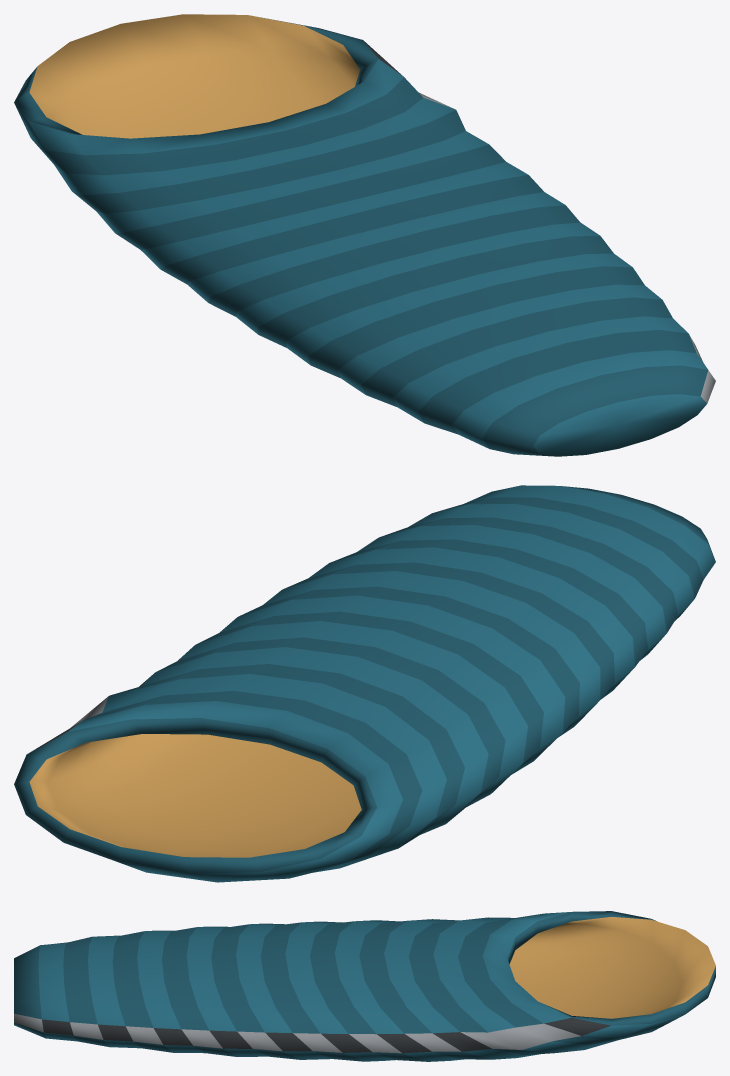
Rendered from NEW_RECOVERY_103_LOD2.fbx.
3 renders of one model, top to bottom at view 1: azimuth 30°, elevation 25°; view 2: azimuth 150°, elevation 25°; view 3: azimuth 270°, elevation 25°, orthographic. The views are drawn at different scales.
Parts seen in each view (by area): view 1: Unrolled mummy sleeping bag; view 2: Unrolled mummy sleeping bag; view 3: Unrolled mummy sleeping bag.
Boxes of the visible parts, x1,y1,x2,y2 form: Unrolled mummy sleeping bag: (14,14,715,456); Unrolled mummy sleeping bag: (14,485,715,882); Unrolled mummy sleeping bag: (14,911,715,1061).
Size of the model in its own units: 90.02 by 212 by 25.35.
